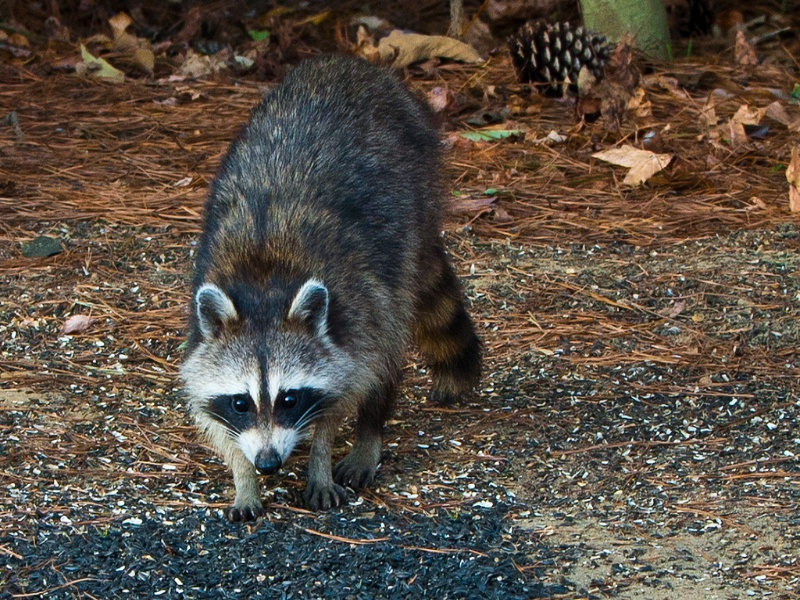raccoon: (176, 54, 472, 529)
